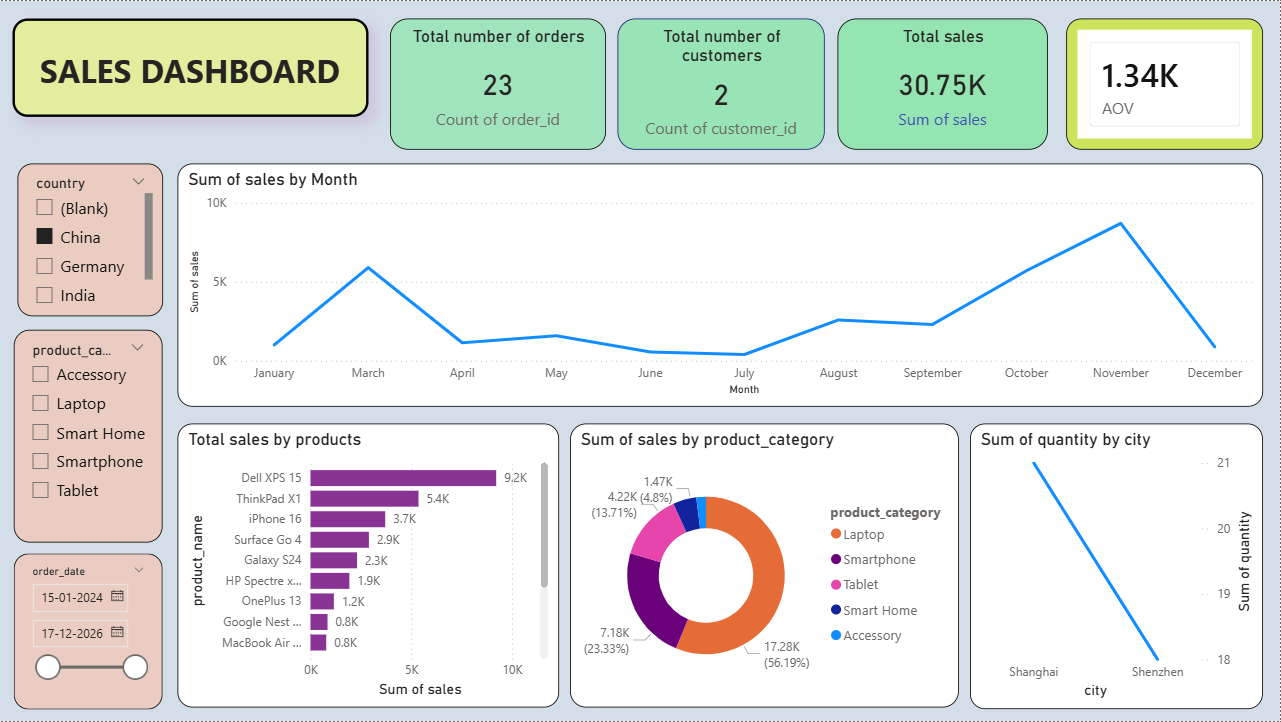

Layout of this report page (visuals, bound fields, positions):
{"tool":"powerbi","page":{"name":"Page 1","canvas":[1280,720],"ordinal":0},"visuals":[{"type":"barChart","title":"Total sales by products","fields":{"Category":["orders.product_name"],"Y":["Sum(orders.sales)"]},"box":[258.8,435.4,380.7,284.8],"z":0},{"type":"donutChart","fields":{"Y":["Sum(orders.sales)"],"Category":["orders.product_category"]},"box":[731.2,453.2,416.3,267],"z":1000},{"type":"card","title":"Total number of orders ","fields":{"Values":["CountNonNull(orders.order_id)"]},"box":[258.8,28.8,198.5,120.5],"z":2000},{"type":"card","title":"Total number of customers ","fields":{"Values":["Count(orders.customer_id)"]},"box":[646.3,28.8,198.5,120.5],"z":3000},{"type":"card","title":"Total sales ","fields":{"Values":["Sum(orders.sales)"]},"box":[1017.4,34.2,199.9,120.5],"z":4000},{"type":"lineChart","fields":{"Category":["orders.order_date.Variation.Date Hierarchy.Year","orders.order_date.Variation.Date Hierarchy.Quarter","orders.order_date.Variation.Date Hierarchy.Month","orders.order_date.Variation.Date Hierarchy.Day"],"Y":["Sum(orders.sales)"]},"box":[260.2,182.1,973.6,213.6],"z":5000},{"type":"slicer","fields":{"Values":["customers.country"]},"box":[45.2,28.8,146.5,153.4],"z":6000},{"type":"slicer","fields":{"Values":["orders.product_category"]},"box":[45.2,239.6,149.3,213.6],"z":7000},{"type":"slicer","fields":{"Values":["orders.order_date"]},"box":[45.2,477.9,164.3,156.1],"z":8000},{"type":"lineChart","fields":{"Category":["customers.city"],"Y2":["Sum(orders.quantity)"]},"box":[940,178.6,320,300],"z":8001}]}

Visuals, with their boxes in screenshot pixels (x1, y1, x2, y2), scaled from the page's 1280x720 canvas onto the 1281x722 screenshot:
"Total sales by products" barChart: [x1=259, y1=437, x2=640, y2=721]
donutChart - Sum(orders.sales) x orders.product_category: [x1=732, y1=454, x2=1148, y2=721]
"Total number of orders " card: [x1=259, y1=29, x2=458, y2=150]
"Total number of customers " card: [x1=647, y1=29, x2=845, y2=150]
"Total sales " card: [x1=1018, y1=34, x2=1218, y2=155]
lineChart - orders.order_date.Variation.Date Hierarchy.Year x orders.order_date.Variation.Date Hierarchy.Quarter: [x1=260, y1=183, x2=1235, y2=397]
slicer - customers.country: [x1=45, y1=29, x2=192, y2=183]
slicer - orders.product_category: [x1=45, y1=240, x2=195, y2=454]
slicer - orders.order_date: [x1=45, y1=479, x2=210, y2=636]
lineChart - customers.city x Sum(orders.quantity): [x1=941, y1=179, x2=1261, y2=480]
